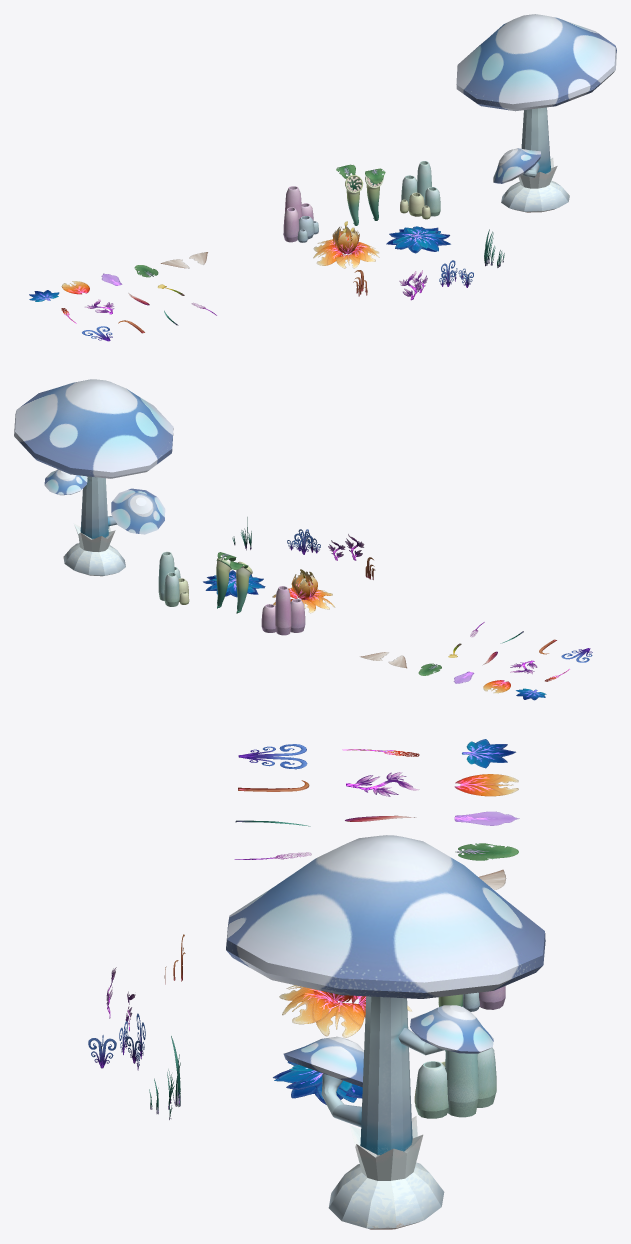
Rendered from smallAlienPlantBed_edit_for_FBX.fbx.
3 views of the same model, one above another, from view 1: azimuth 30°, elevation 25°; view 2: azimuth 150°, elevation 25°; view 3: azimuth 270°, elevation 25° (orthographic). The views are drawn at different scales.
Visible parts, largest first — view 1: Mushroom01, planeUV01, coral02, plants03, coral01, plants04, plants01, plants02; view 2: Mushroom01, planeUV01, coral01, coral02, plants03, plants02, plants04, plants01, seaweed03; view 3: Mushroom01, planeUV01, coral02, plants03, plants04, seaweed03, coral01.
Part boxes in pixels (<box>): Mushroom01: <box>456,14,616,212</box>; planeUV01: <box>29,265,216,341</box>; coral02: <box>400,161,440,219</box>; plants03: <box>313,221,379,268</box>; coral01: <box>283,186,318,242</box>; plants04: <box>386,226,450,253</box>; plants01: <box>336,164,363,225</box>; plants02: <box>365,168,385,220</box>; Mushroom01: <box>14,379,173,576</box>; planeUV01: <box>418,622,592,700</box>; coral01: <box>261,586,305,635</box>; coral02: <box>158,551,189,606</box>; plants03: <box>272,569,335,613</box>; plants02: <box>216,552,236,608</box>; plants04: <box>203,570,265,597</box>; plants01: <box>230,561,252,613</box>; seaweed03: <box>287,529,320,554</box>; Mushroom01: <box>226,835,545,1229</box>; planeUV01: <box>234,739,519,860</box>; coral02: <box>414,1047,496,1118</box>; plants03: <box>279,985,411,1037</box>; plants04: <box>273,1060,362,1104</box>; seaweed03: <box>88,1013,145,1070</box>; coral01: <box>462,986,505,1011</box>.
Bounding box in the file's own units: 6367 × 2033 × 2323.
